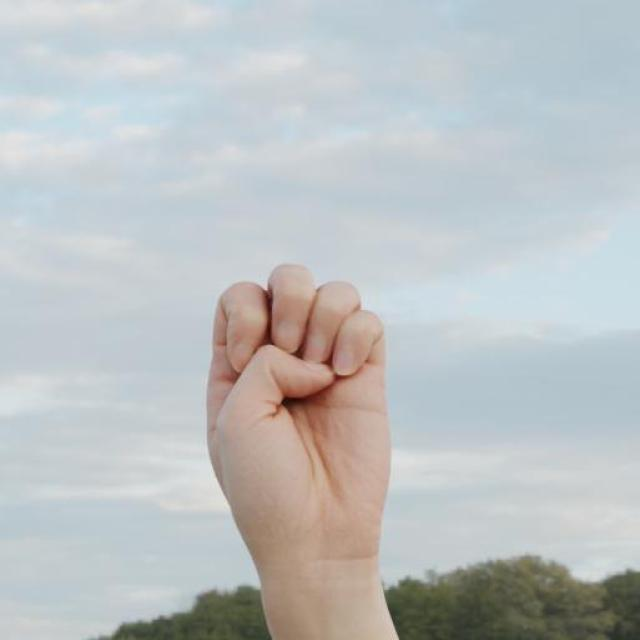E: (199, 261, 395, 568)
